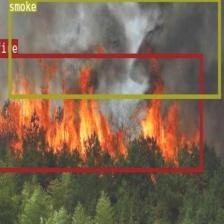fire: (0, 53, 202, 171)
smoke: (7, 0, 220, 98)
